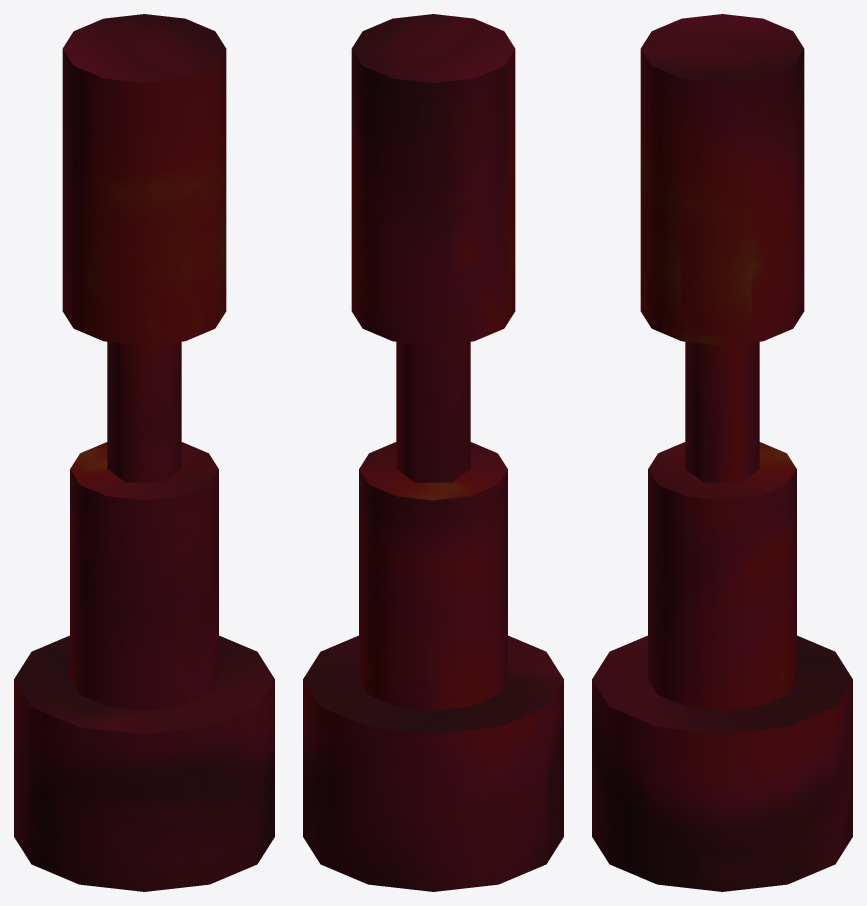
Rendered from PegMetalT3.fbx.
The picture shows the model from 3 angles, left to right: view 1: azimuth 30°, elevation 25°; view 2: azimuth 150°, elevation 25°; view 3: azimuth 270°, elevation 25°; orthographic projection.
Parts seen in each view (by area): view 1: PegMetalT3; view 2: PegMetalT3; view 3: PegMetalT3.
Part boxes in pixels (box(x1,y1,x2,y2)): PegMetalT3: box(14, 14, 274, 891); PegMetalT3: box(303, 14, 563, 891); PegMetalT3: box(592, 14, 852, 891).
Size of the model in its own units: 0.923 by 3.08 by 0.9227.
1 material, 1 textured.
